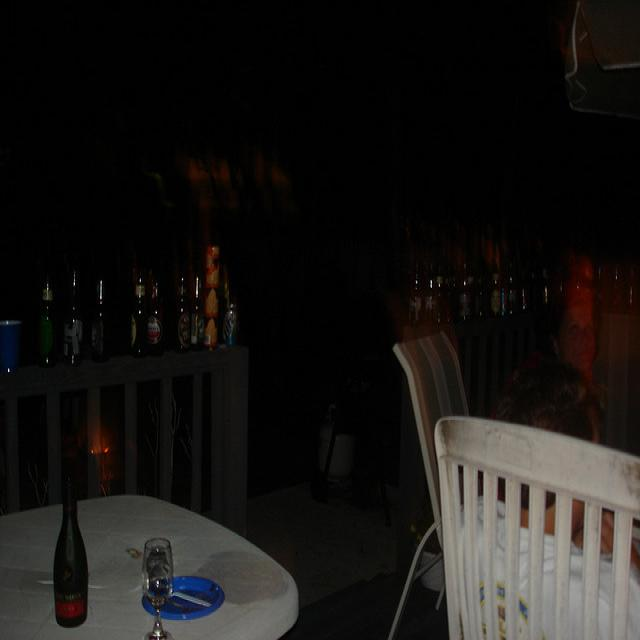Bottle: (33, 447, 87, 638), (383, 252, 441, 344), (192, 240, 230, 376), (94, 256, 125, 381), (140, 246, 168, 374), (55, 248, 81, 378), (36, 269, 69, 371), (167, 240, 194, 363), (494, 228, 533, 312), (461, 260, 502, 333), (120, 255, 146, 368), (437, 266, 469, 327)
Cup: (125, 522, 170, 639)
Table: (0, 444, 322, 640)
chair: (440, 411, 632, 640), (362, 318, 489, 598)
